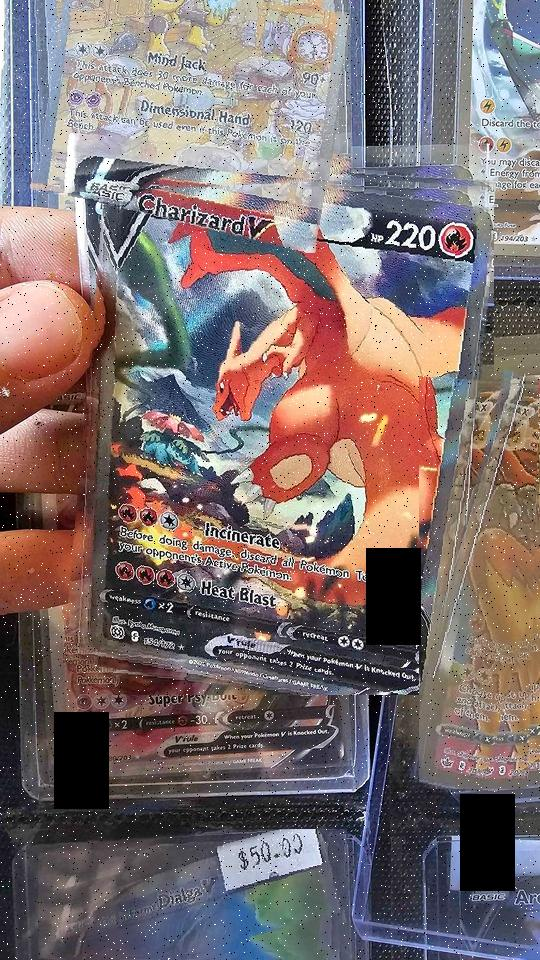card: (90, 163, 494, 695), (38, 0, 351, 193), (419, 384, 540, 789), (38, 829, 343, 959)
